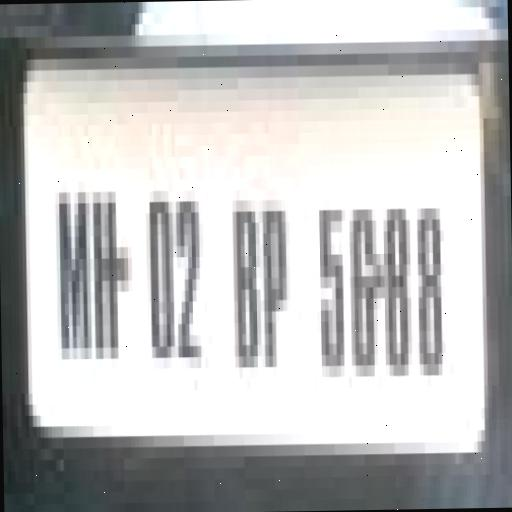number plate: (6, 49, 512, 470)
